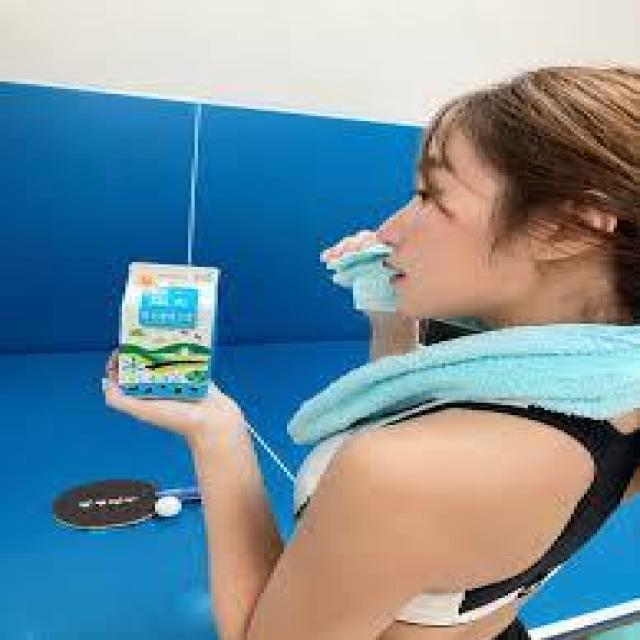TongYi_UnsweetenedBlackSoyMilk: (114, 258, 224, 412)
